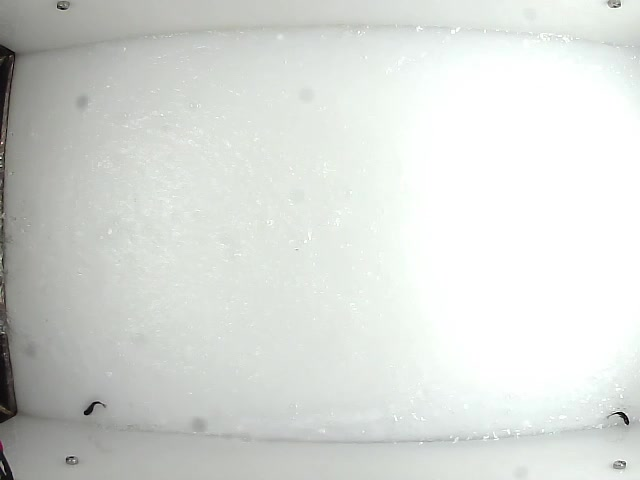fish: (81, 399, 108, 420), (606, 410, 632, 427)
